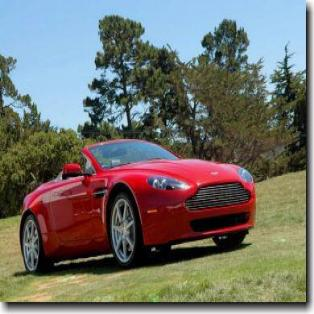Auto: (19, 139, 256, 275)
